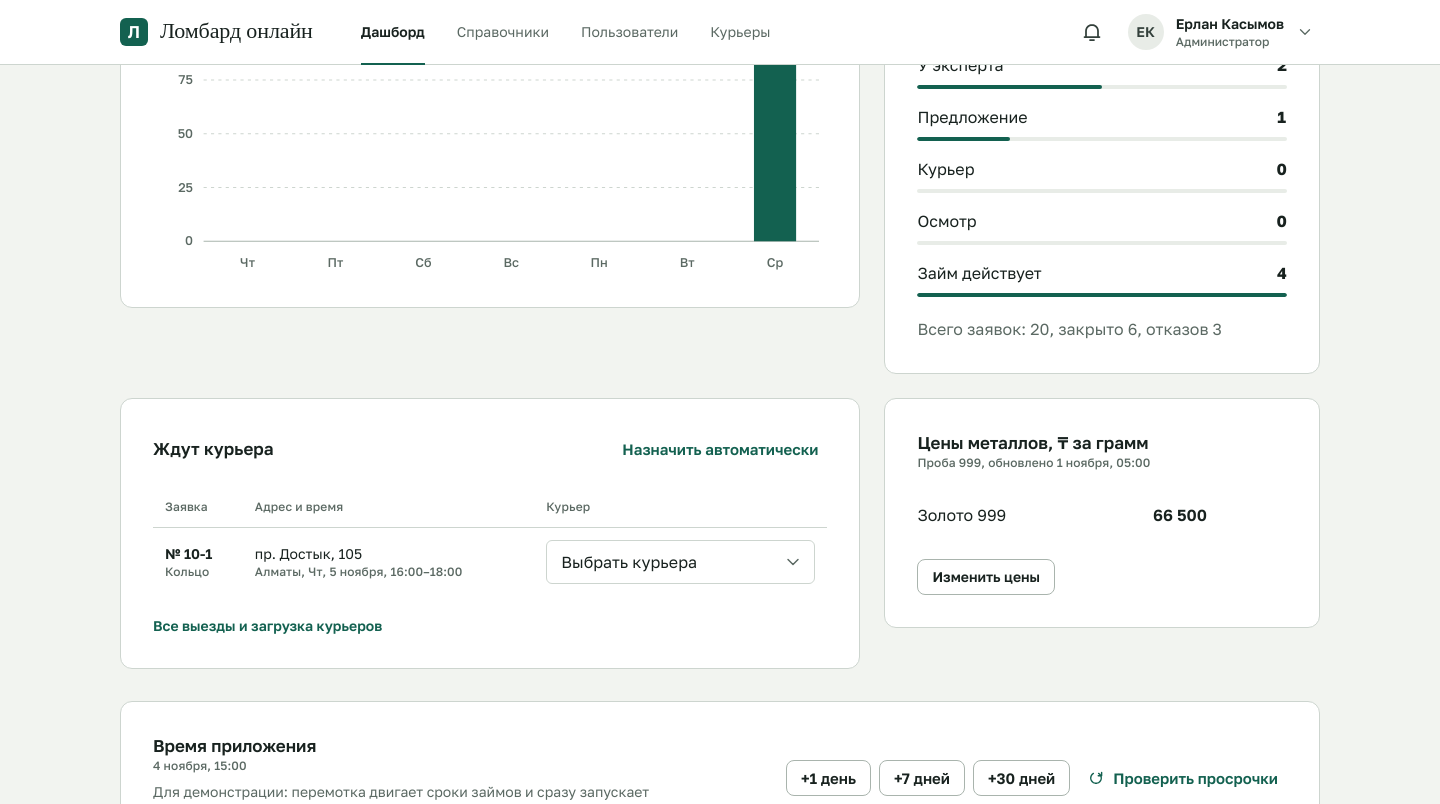
Test: Admin dashboard › shows tiles, the chart, stages and assigns a courier
(page scrolled)
Expected: the icon named "Выдано займов по дням" is shown, [153,1,827,275]
Click the button "Назначить автоматически".
click(720, 449)  # box [613,431,828,467]
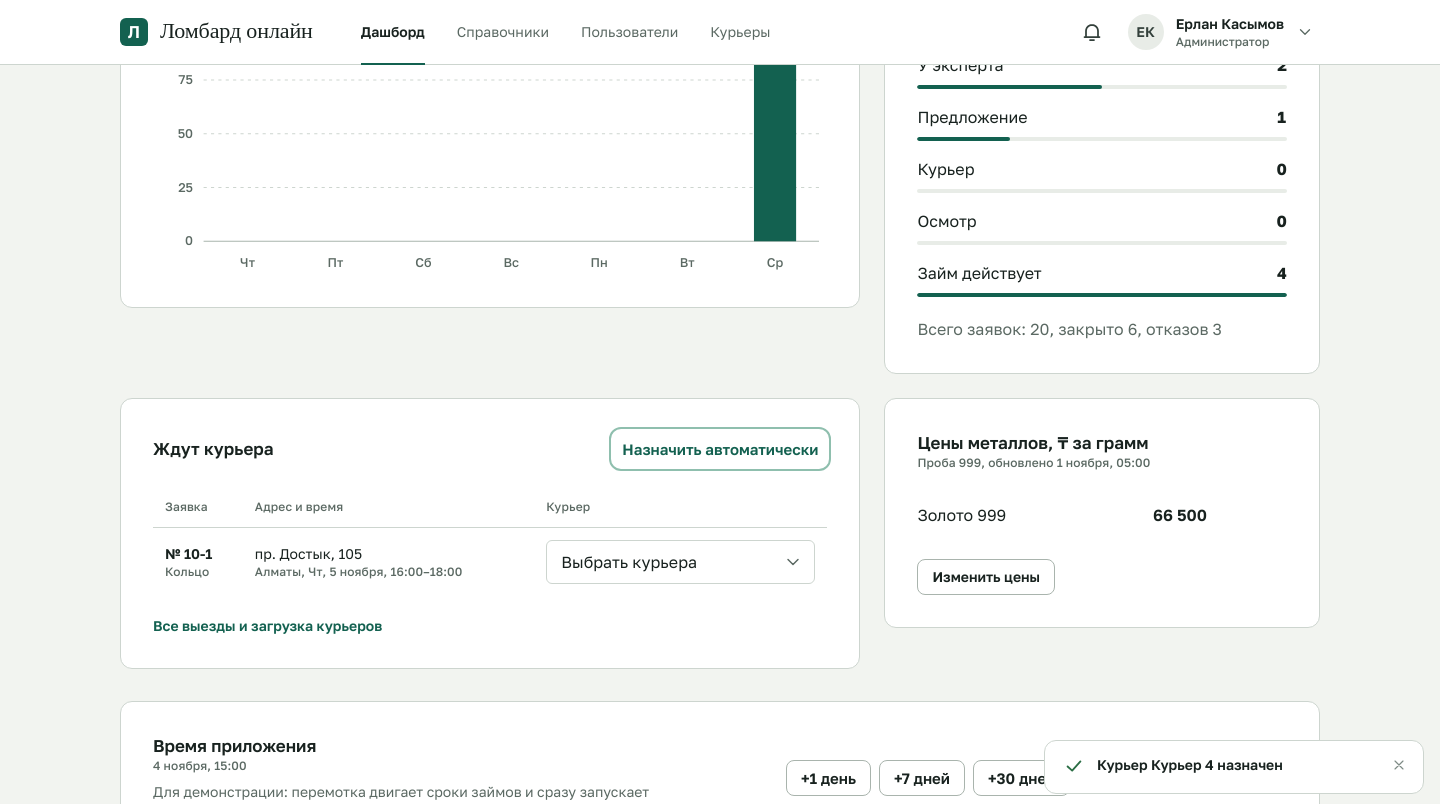
Click the button named "+7 дней".
click(922, 778)  # box [879,760,965,796]
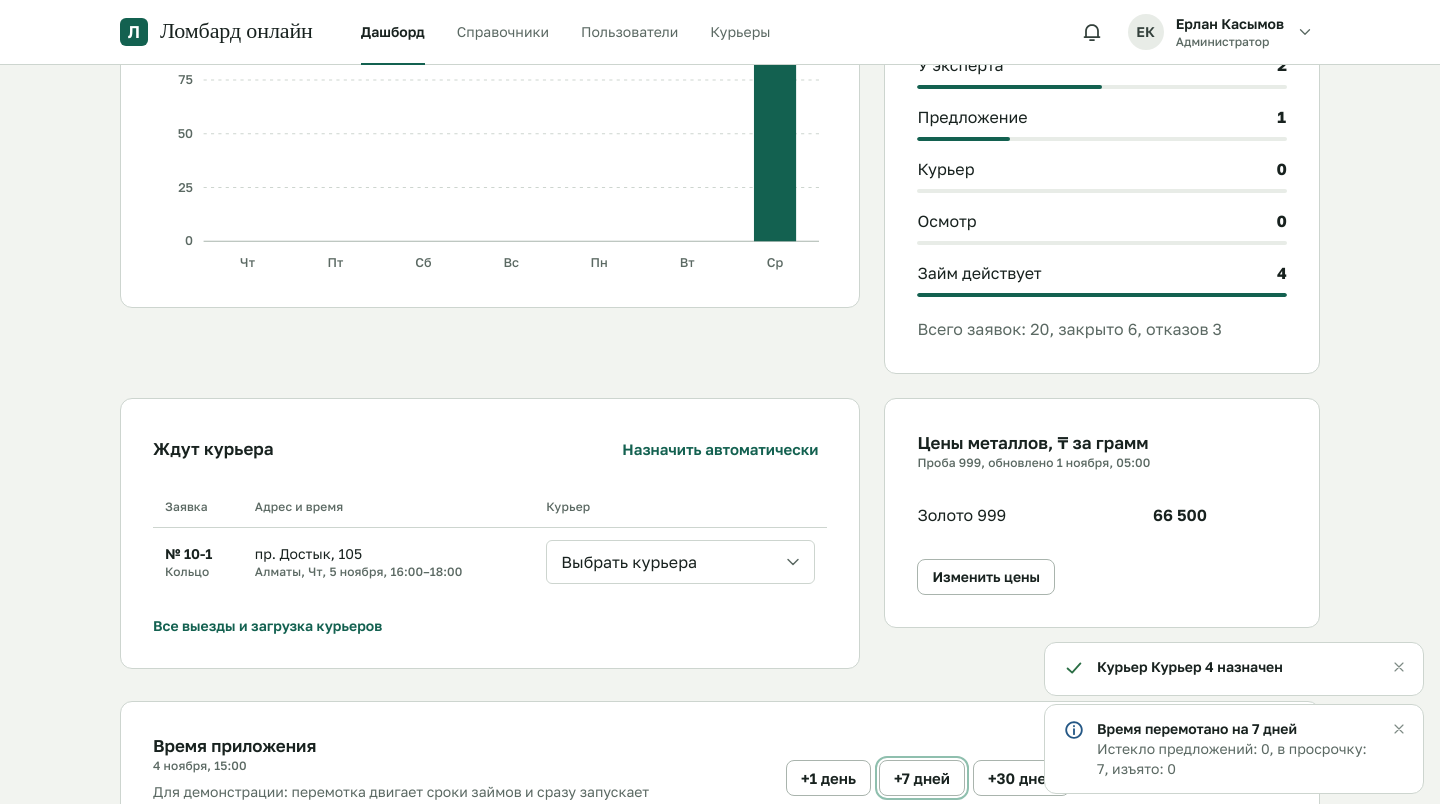
Expected: the text "Время перемотано на 7 дней" is shown, [1097,720,1297,737]
